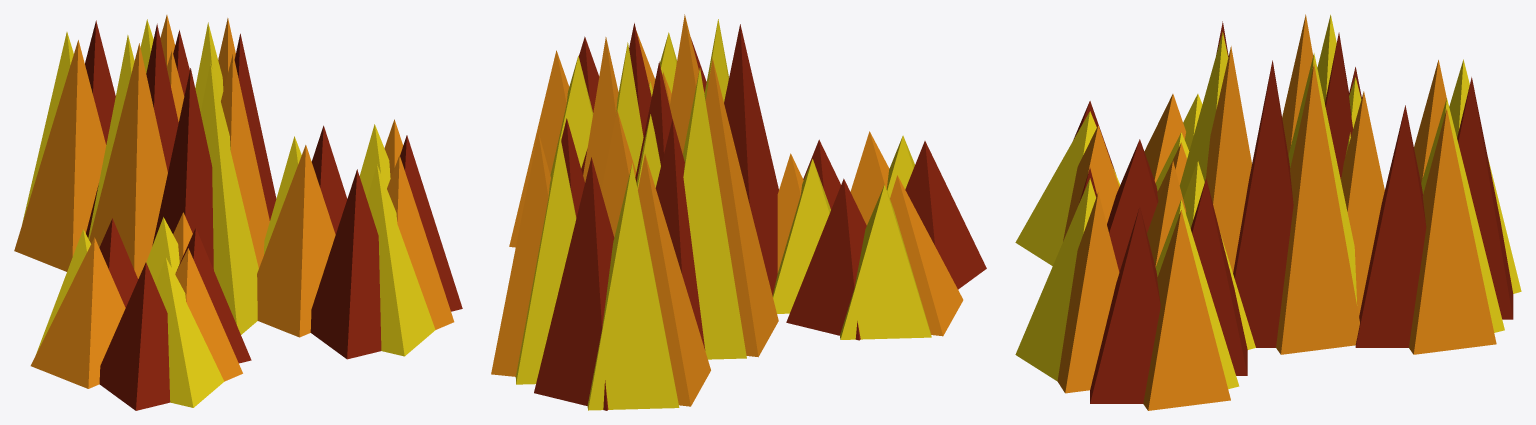
Rendered from obj_fire_graphic_0.obj.
The picture shows the model from 3 angles, left to right: view 1: azimuth 30°, elevation 25°; view 2: azimuth 150°, elevation 25°; view 3: azimuth 270°, elevation 25°; orthographic projection. The views are drawn at different scales.
Bounding box in the file's own units: 0.4688 × 0.2812 × 0.4766.
